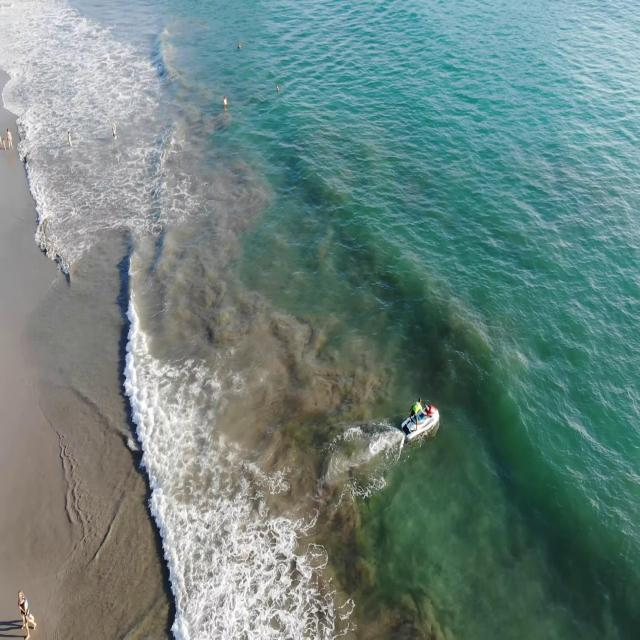boat: (400, 395, 442, 441)
